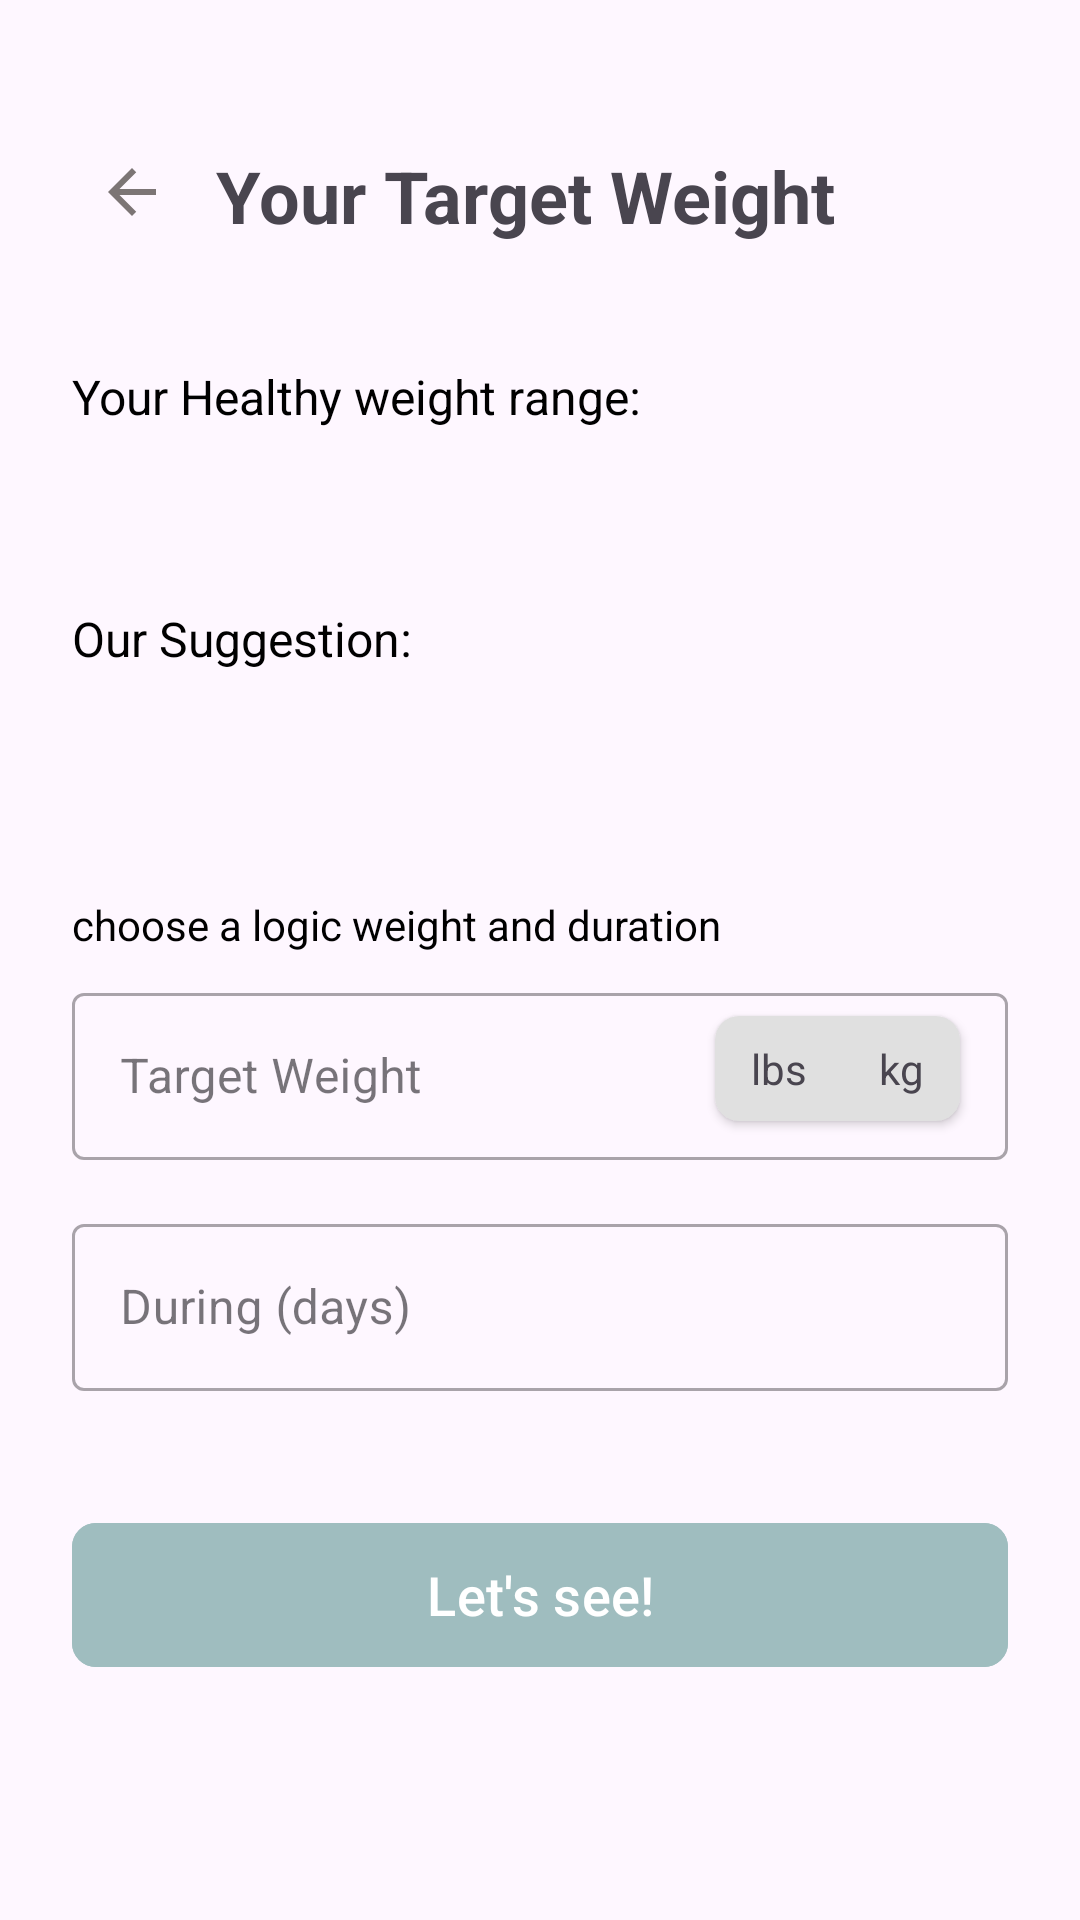

Icons on this 1080 × 1920 Android screen, each with its box as detection(x1, y1, x2, y2):
arrow back: detection(108, 168, 156, 216)
